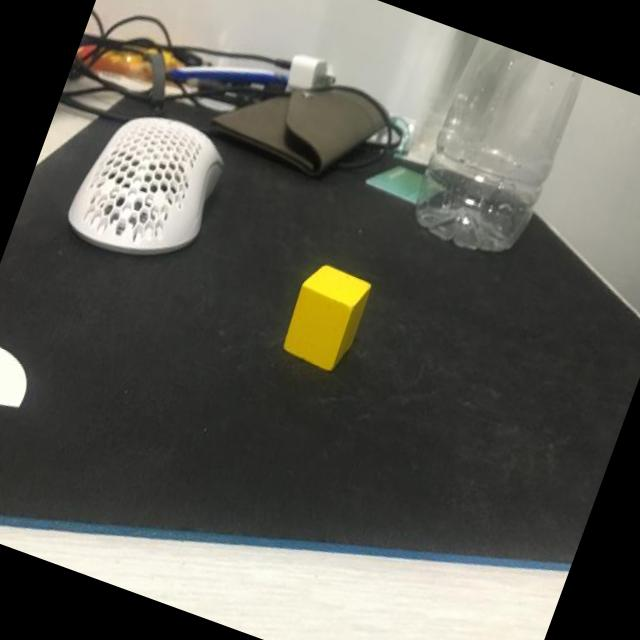yellow: (276, 258, 377, 378)
